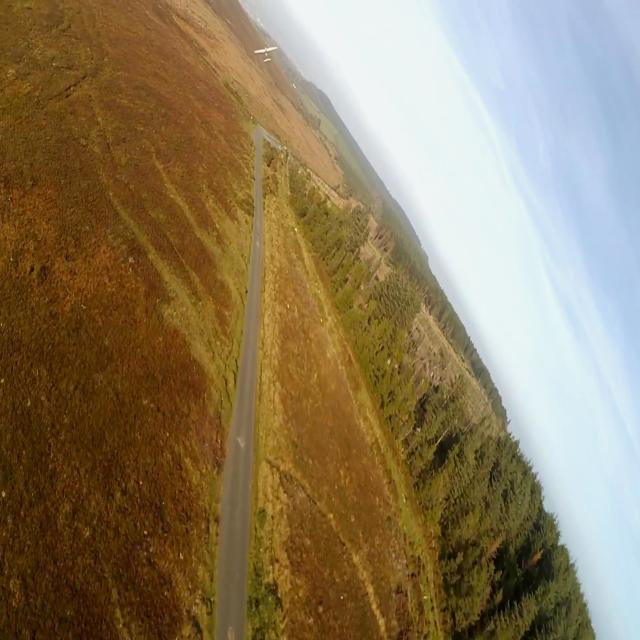iha: (243, 42, 270, 65)
